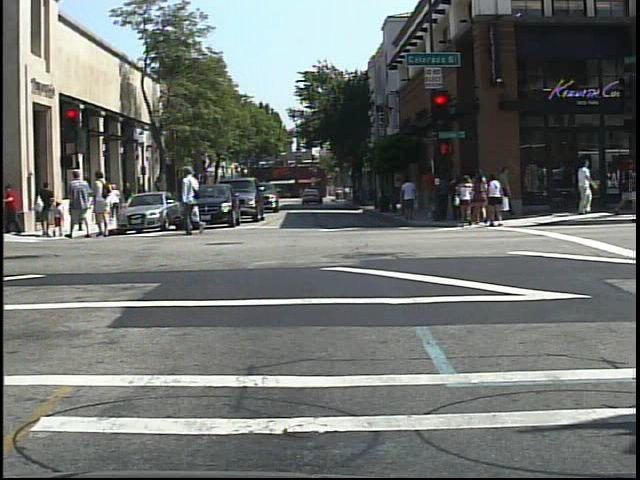person: (178, 165, 209, 237), (66, 165, 93, 243), (92, 168, 116, 239)
